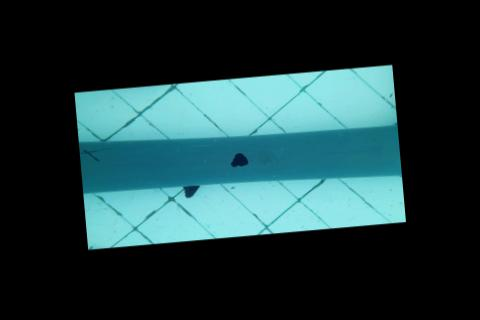kebocoran: (227, 150, 249, 168)
keretakan: (78, 145, 111, 164)
